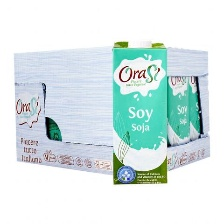carton: (107, 31, 175, 194)
